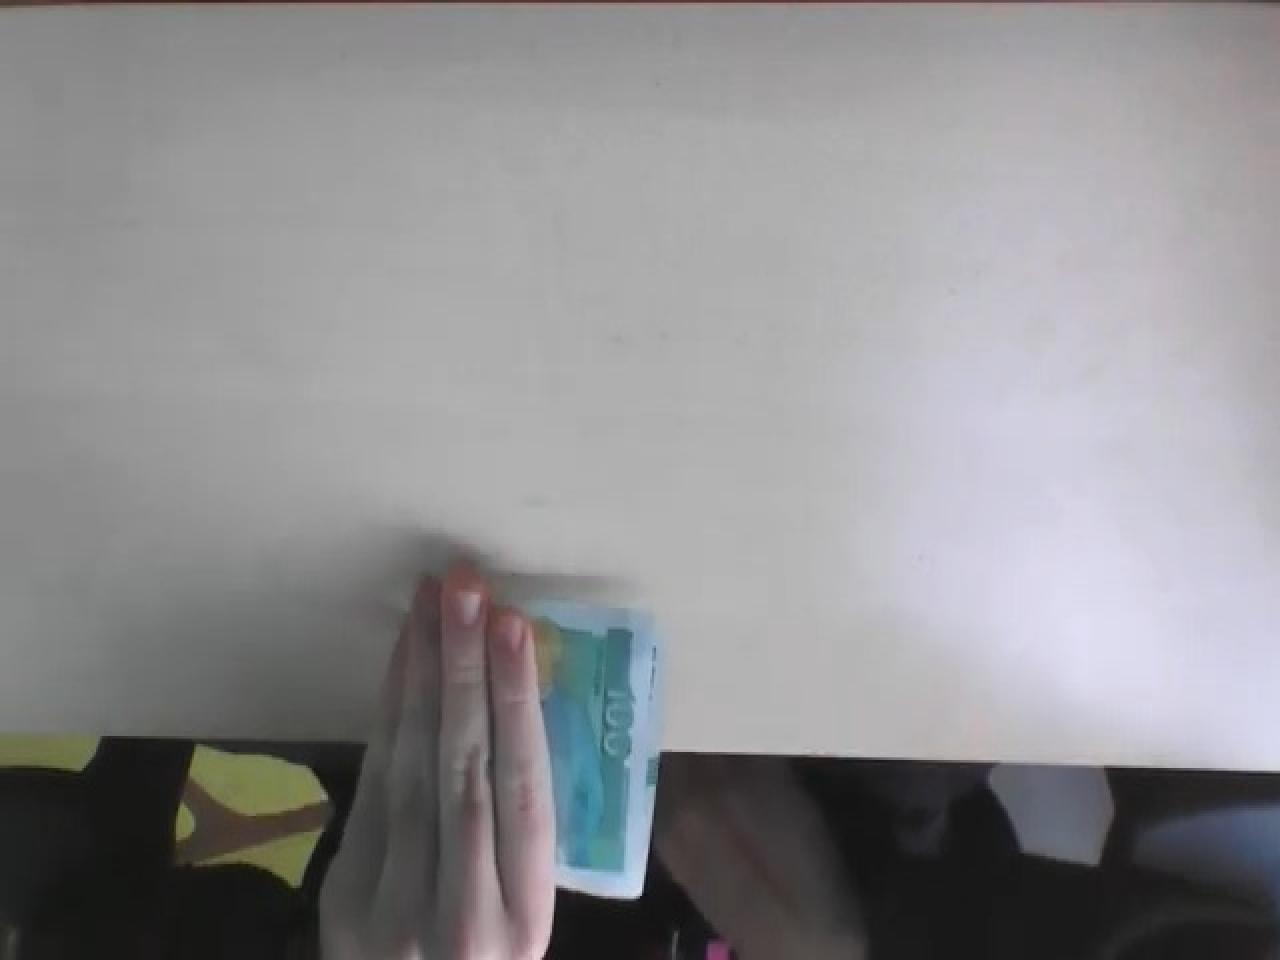100leva: (524, 603, 664, 899)
